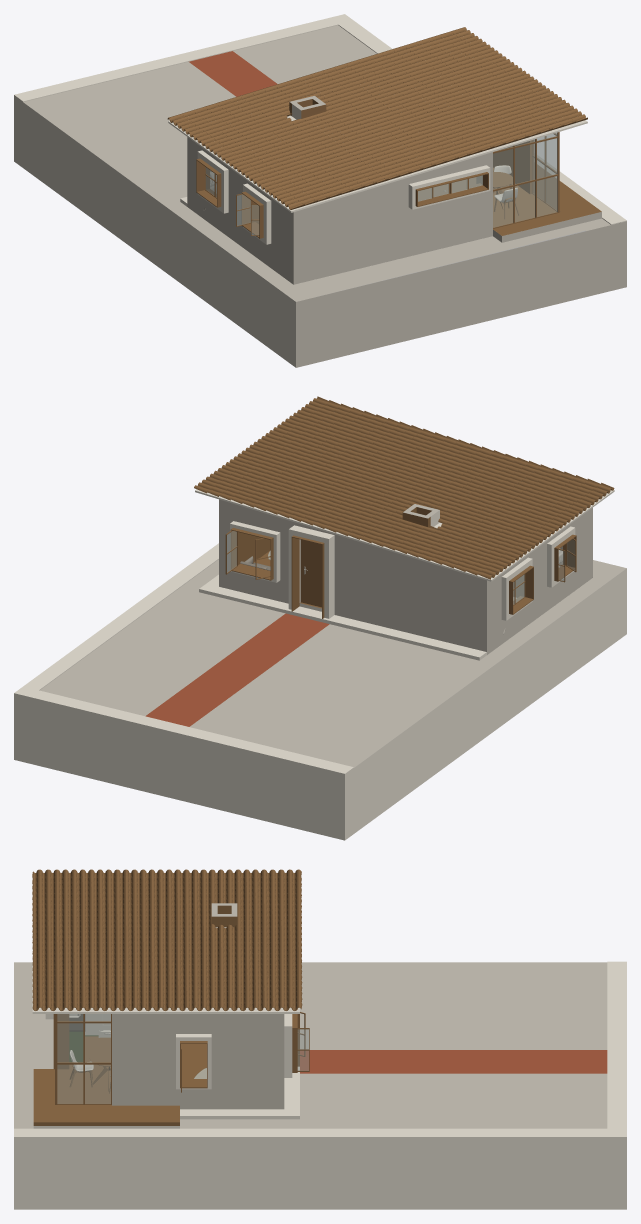
Rendered from jeronimo.glb.
3 views of the same model, one above another, from view 1: azimuth 30°, elevation 25°; view 2: azimuth 150°, elevation 25°; view 3: azimuth 270°, elevation 25° (orthographic). The views are drawn at different scales.
Parts seen in each view (by area): view 1: Geom3D (×11), Geom3D_; view 2: Geom3D (×10), Geom3D_; view 3: Geom3D (×11), Geom3D_.
Boxes of the visible parts, x1,y1,x2,y2 form: Geom3D (×11): [14, 14, 626, 367]; Geom3D_: [168, 104, 587, 212]; Geom3D (×10): [14, 396, 626, 840]; Geom3D_: [195, 489, 614, 581]; Geom3D (×11): [14, 869, 626, 1209]; Geom3D_: [32, 922, 299, 1013].
Bounding box in the file's own units: 10.5 × 5.2 × 15.5.
